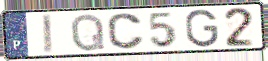2: (223, 6, 255, 48)
5: (149, 11, 179, 49)
C: (106, 12, 147, 51)
G: (183, 8, 220, 49)
I: (40, 13, 55, 55)
Q: (70, 12, 107, 53)
